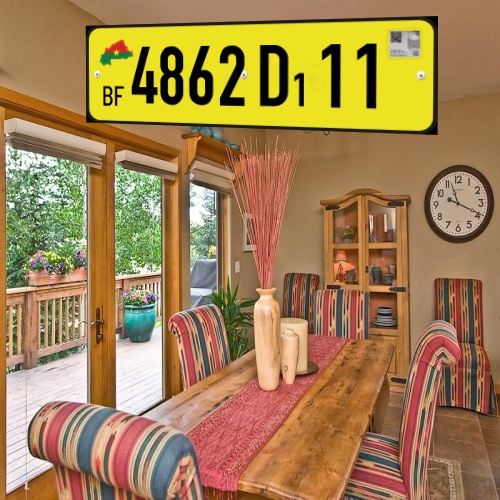plate: (82, 16, 446, 151)
